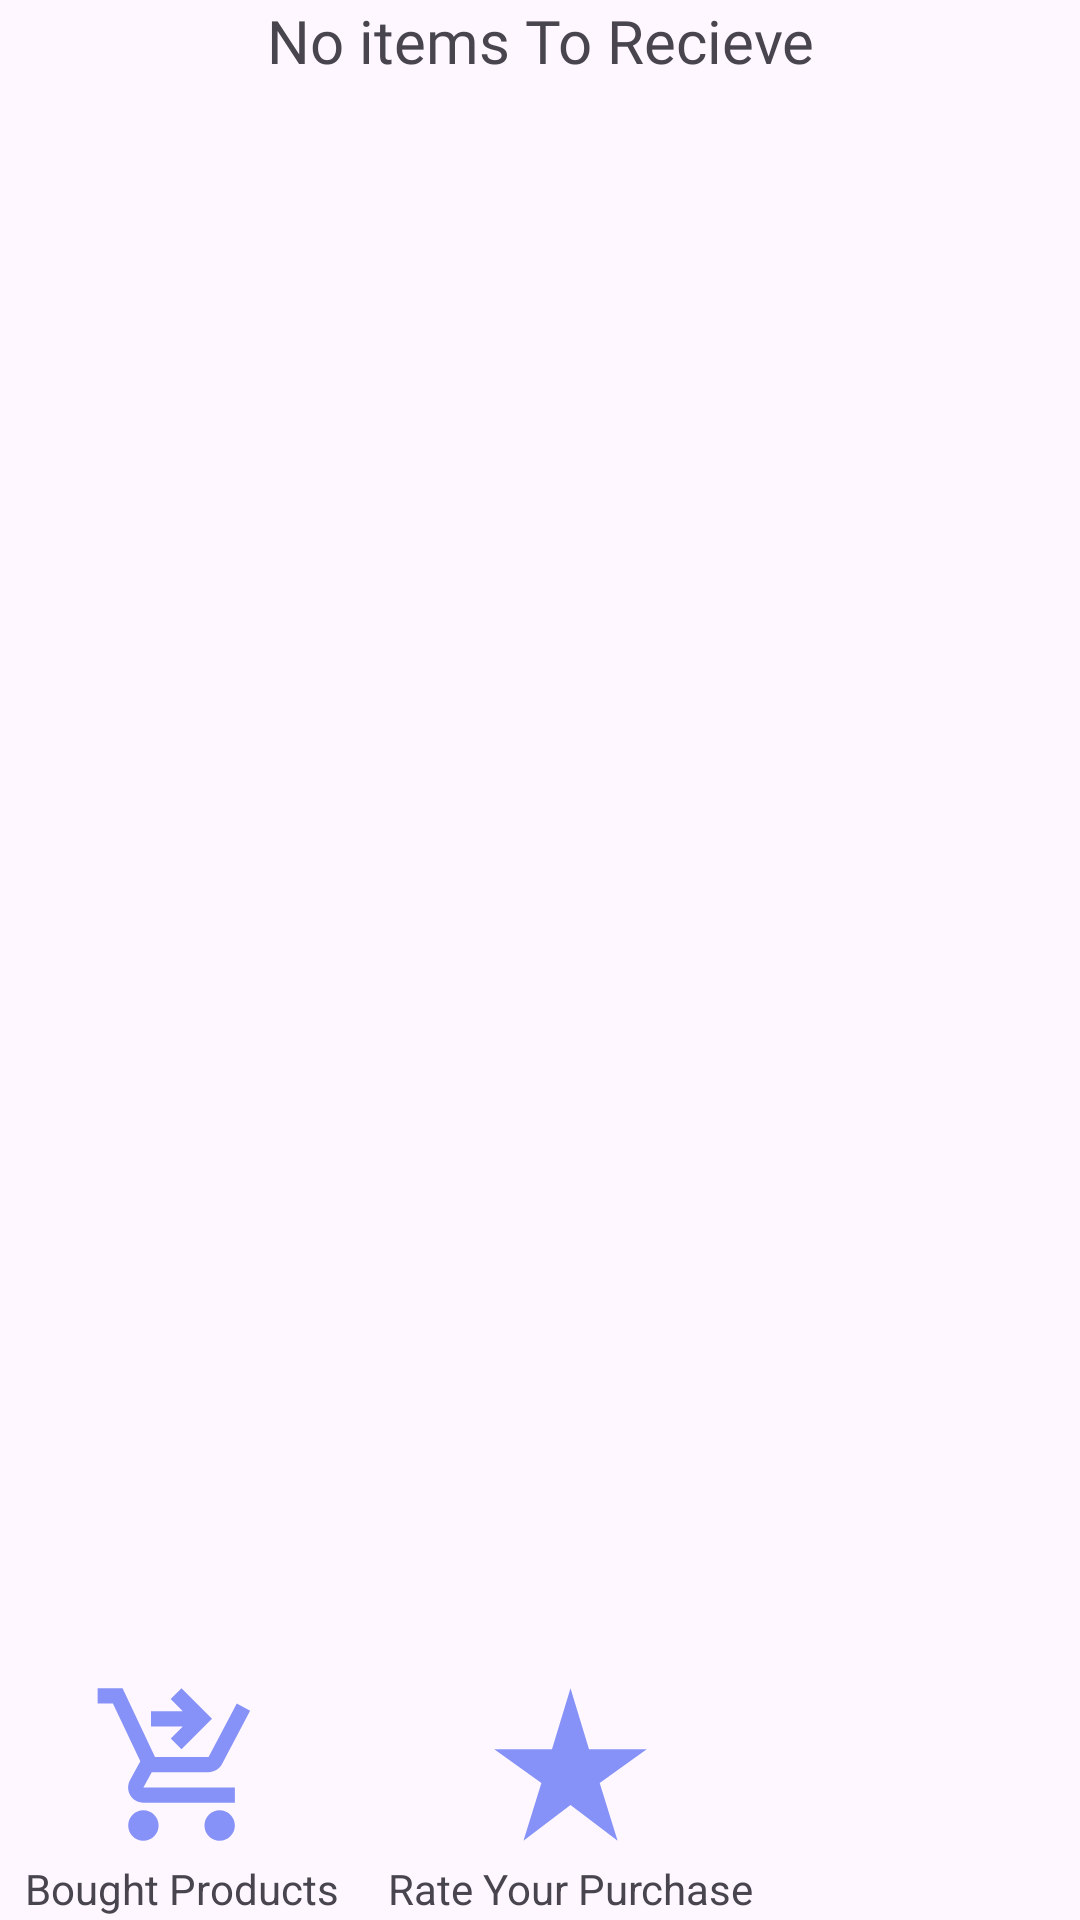

Icon click points for this 1080 × 1920 phone screenshot, format (x,y):
shopping cart checkout: (173,1764)
star rate: (570,1765)
